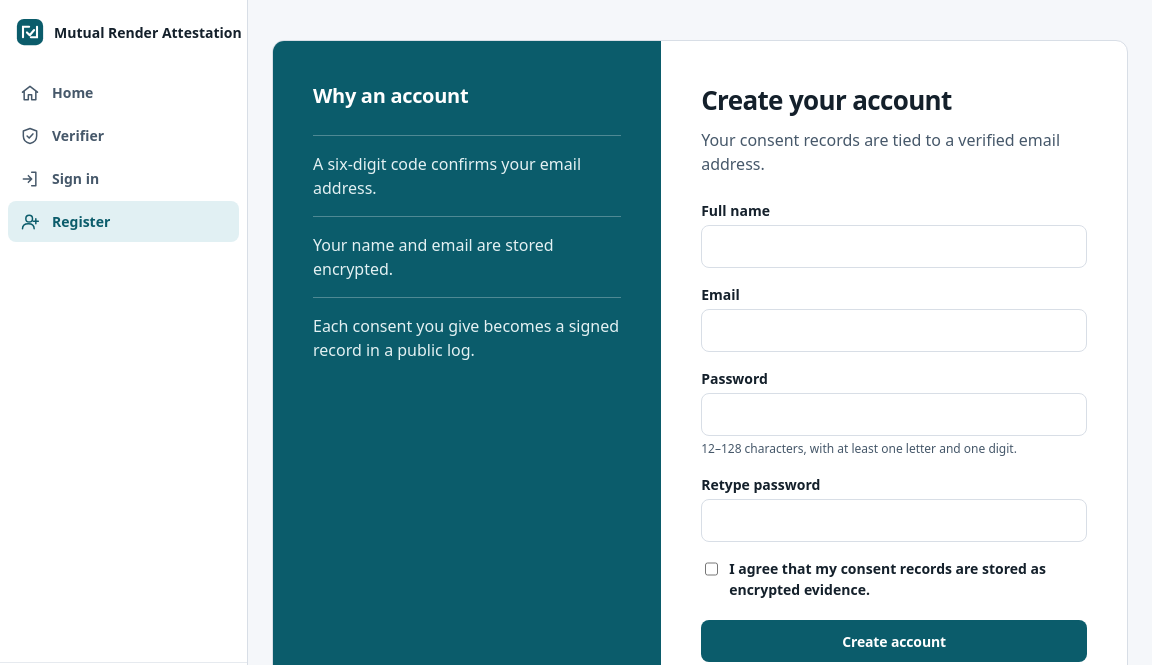
Test case: Register page › shows a generic message on conflict and never says the address exists
In the field labelled "Full name": (894, 246) left=701, top=225, right=1087, bottom=268, type "Asha Verma"
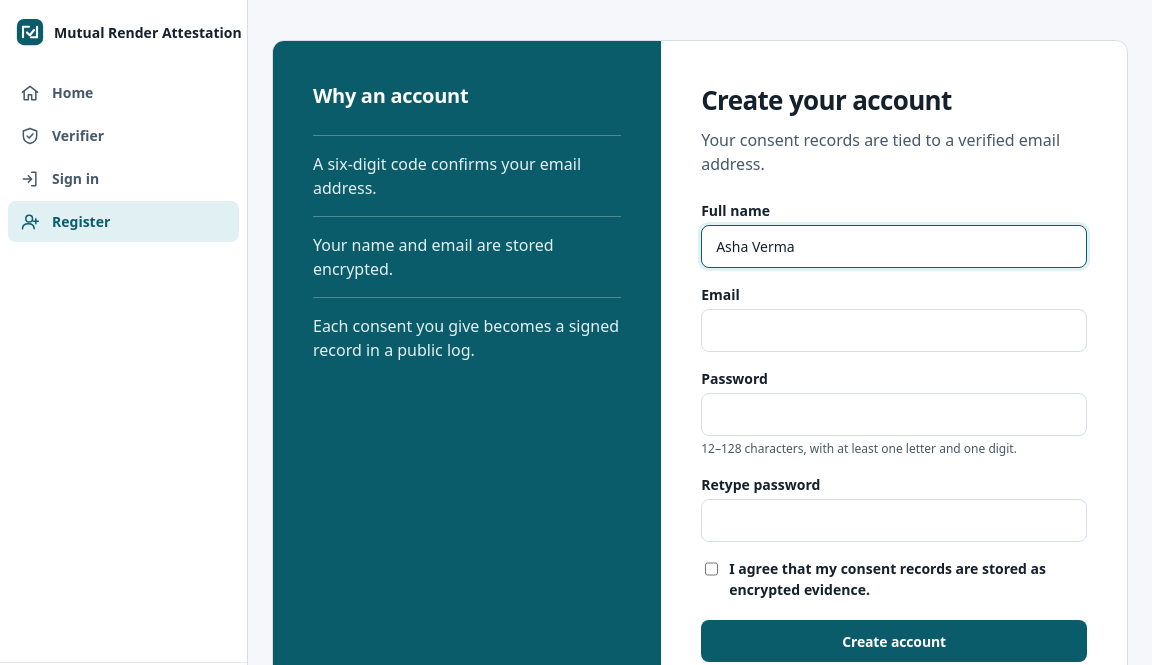
In the field labelled "Email": (894, 330) left=701, top=309, right=1087, bottom=352, type "asha@example.com"
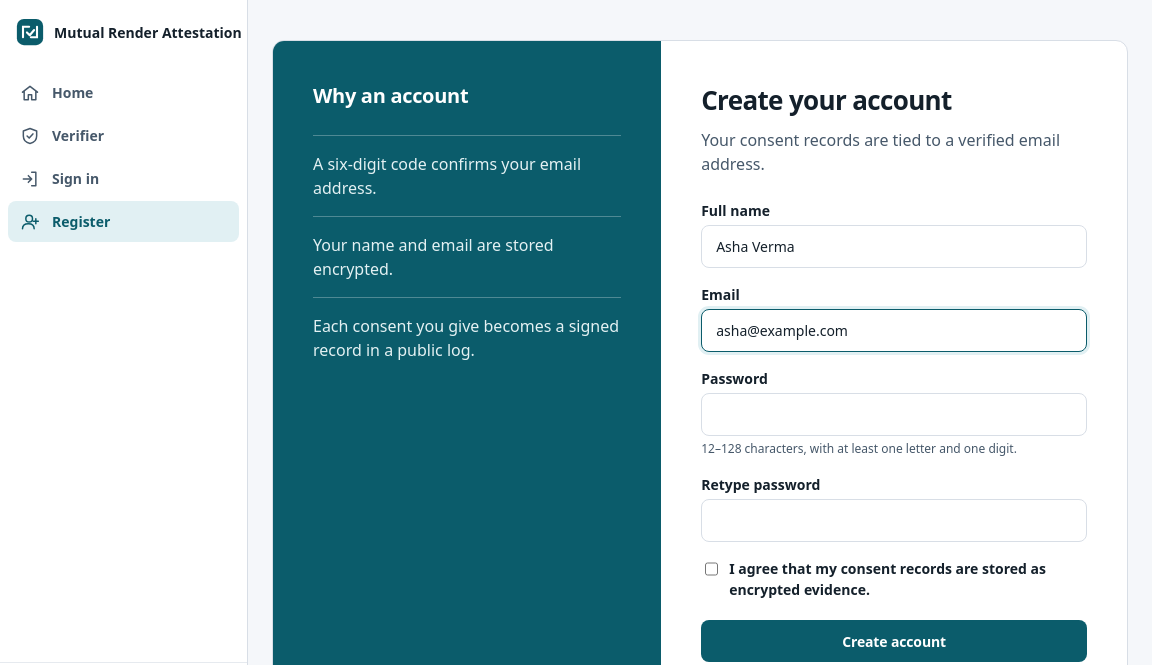
In the password field labelled "Password": (894, 414) left=701, top=393, right=1087, bottom=436, type "correct horse 9 battery"
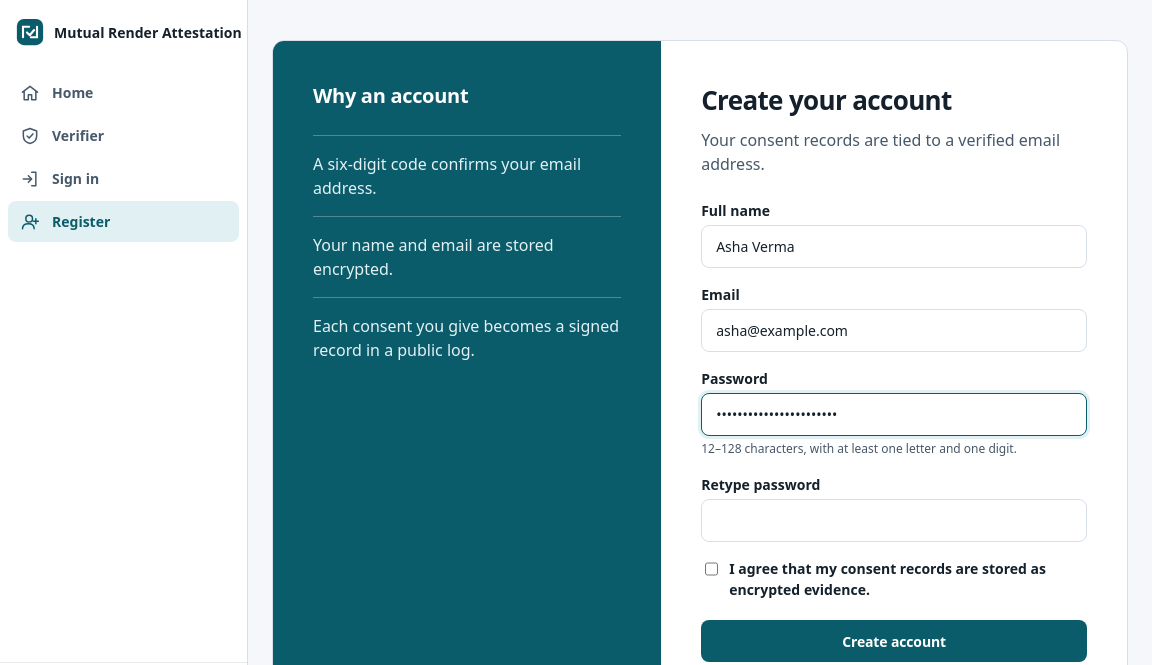
In the password field labelled "Retype password": (894, 520) left=701, top=499, right=1087, bottom=542, type "correct horse 9 battery"
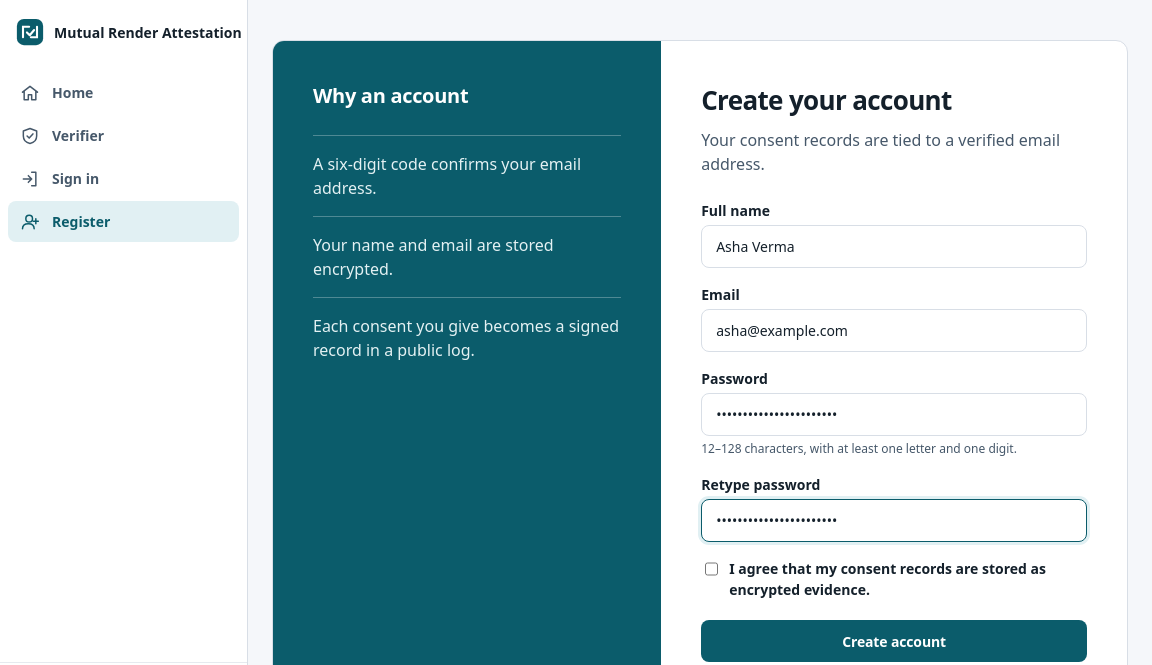
Click the checkbox labelled "I agree": click(712, 569) left=705, top=561, right=718, bottom=577
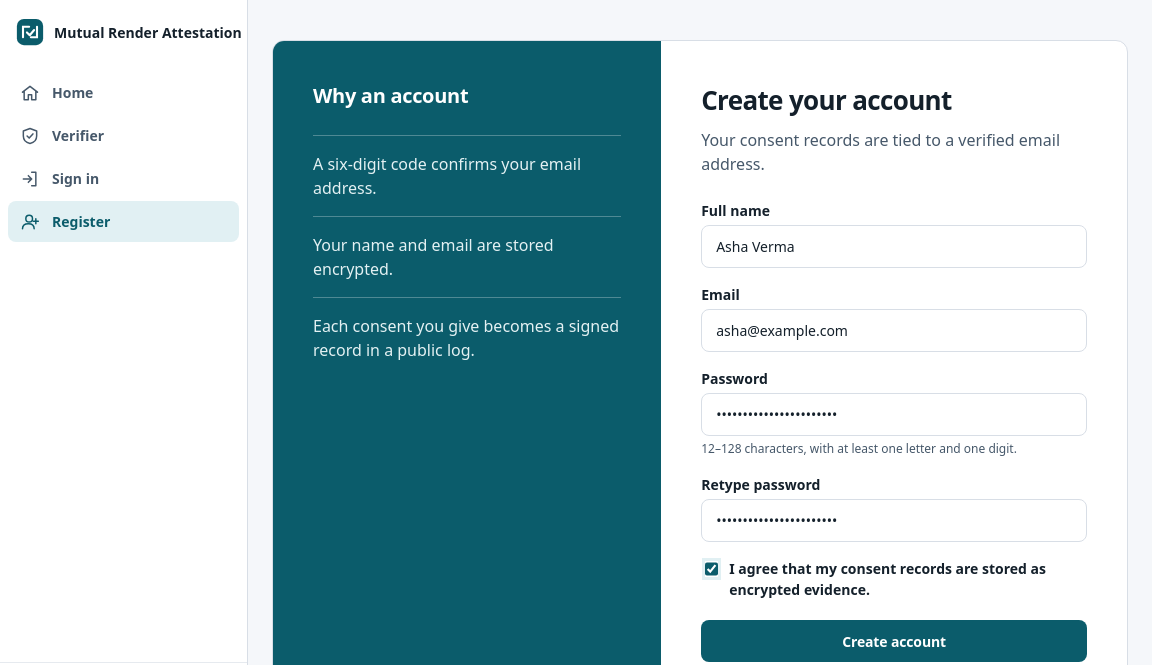
Click the button "Create account": click(894, 641) left=701, top=620, right=1087, bottom=662
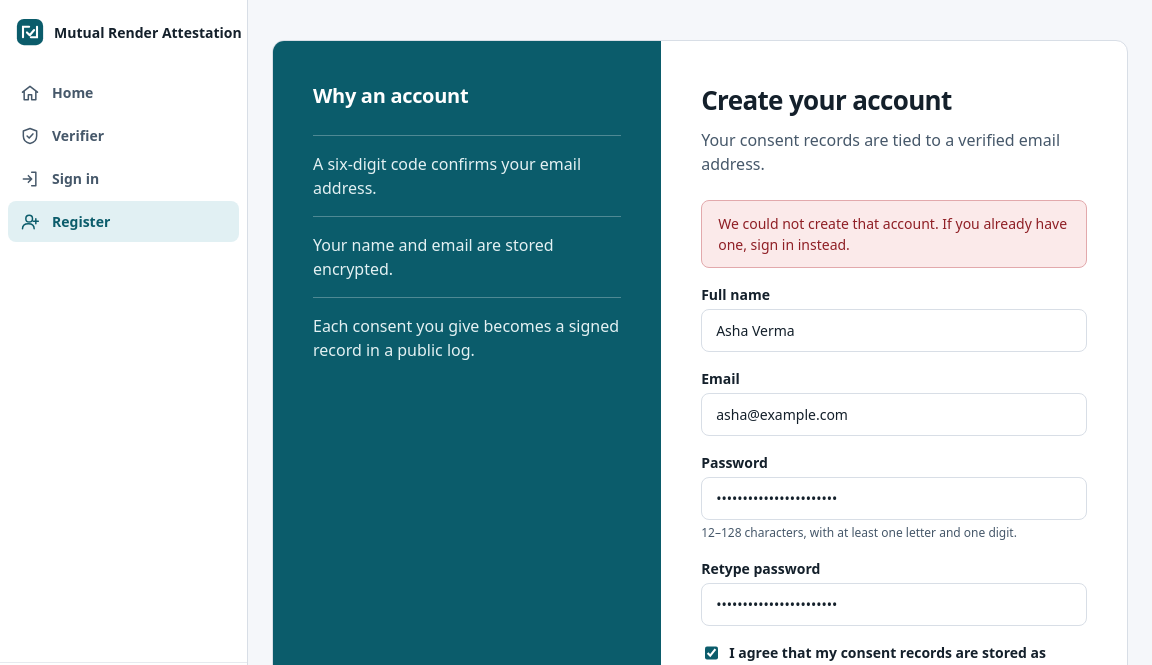
Check: the message shows "could not create that account", box left=718, top=214, right=1067, bottom=254
